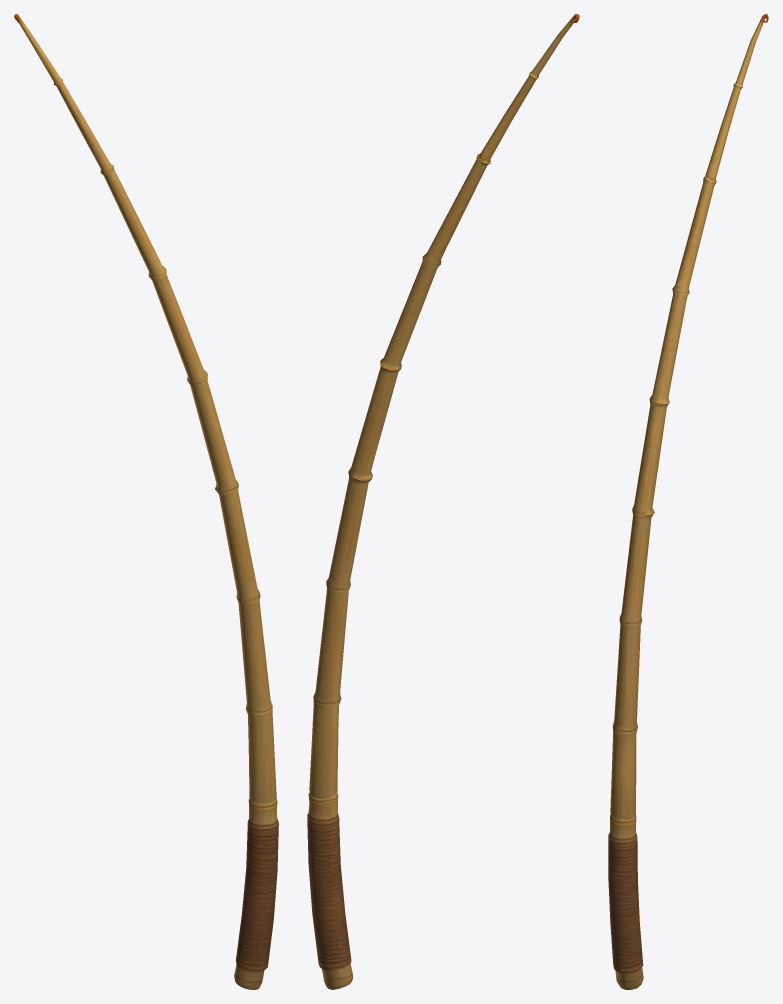
Rendered from rod.glb.
The picture shows the model from 3 angles, left to right: view 1: azimuth 30°, elevation 25°; view 2: azimuth 210°, elevation 25°; view 3: azimuth 270°, elevation 25°; orthographic projection. The views are drawn at different scales.
Parts seen in each view (by area): view 1: tripo_node_8398dbc7-2b11-41ec-ad5f-5b972a41044a; view 2: tripo_node_8398dbc7-2b11-41ec-ad5f-5b972a41044a; view 3: tripo_node_8398dbc7-2b11-41ec-ad5f-5b972a41044a.
Part boxes in pixels (<box>): tripo_node_8398dbc7-2b11-41ec-ad5f-5b972a41044a: <box>14,14,278,989</box>; tripo_node_8398dbc7-2b11-41ec-ad5f-5b972a41044a: <box>307,14,579,989</box>; tripo_node_8398dbc7-2b11-41ec-ad5f-5b972a41044a: <box>608,14,768,989</box>.
Size of the model in its own units: 0.2028 by 1 by 0.1616.
Materials: 1 (1 with a texture image).
